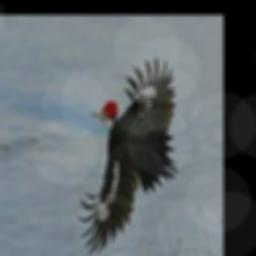Woodpecker: (77, 55, 177, 253)
